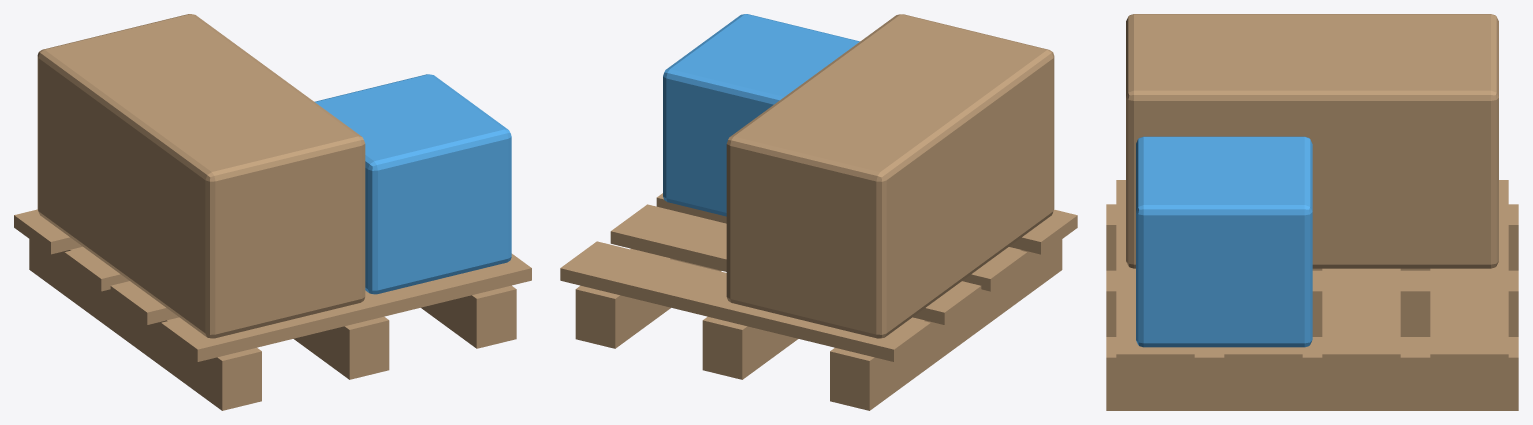
Rendered from Pallet.fbx.
The picture shows the model from 3 angles, left to right: view 1: azimuth 30°, elevation 25°; view 2: azimuth 150°, elevation 25°; view 3: azimuth 270°, elevation 25°; orthographic projection. The views are drawn at different scales.
Visible parts, largest first — view 1: Wood.002, Blue; view 2: Wood.002, Blue; view 3: Wood.002, Blue.
Part boxes in pixels (<box>): Wood.002: <box>14,14,531,410</box>; Blue: <box>314,74,511,294</box>; Wood.002: <box>560,14,1077,410</box>; Blue: <box>663,14,859,216</box>; Wood.002: <box>1106,14,1518,410</box>; Blue: <box>1136,136,1312,347</box>.
Bounding box in the file's own units: 420 × 275 × 420.
